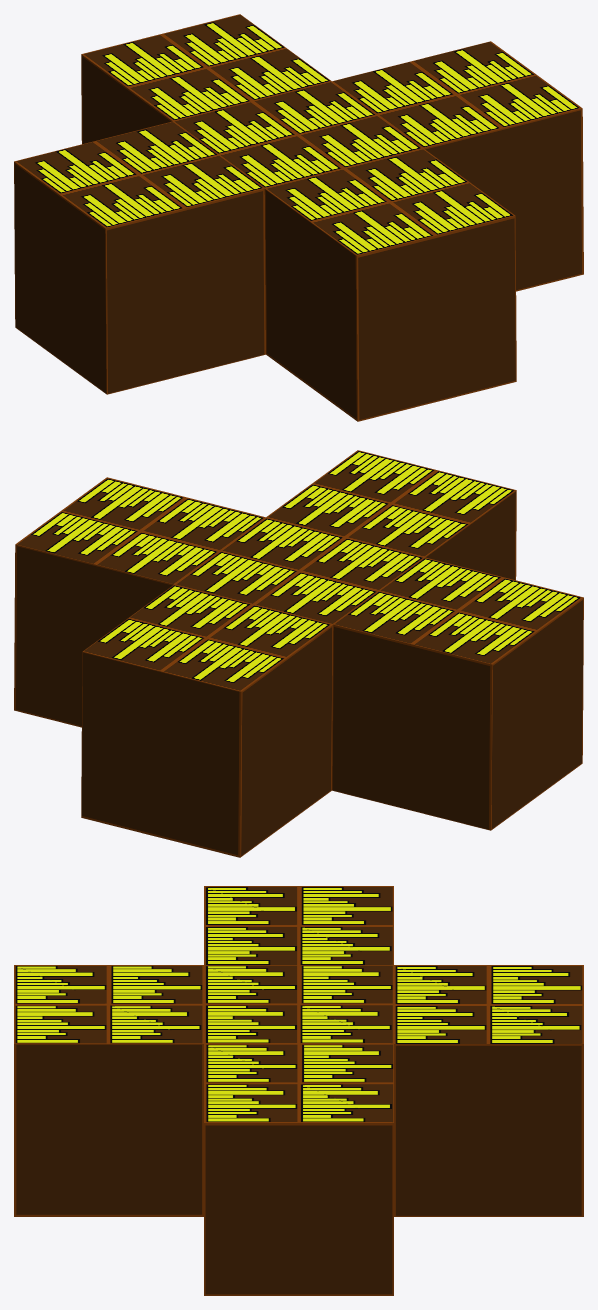
The model's file is Cross.fbx.
3 views of the same model, one above another, from view 1: azimuth 30°, elevation 25°; view 2: azimuth 150°, elevation 25°; view 3: azimuth 270°, elevation 25° (orthographic). The views are drawn at different scales.
Visible parts, largest first — view 1: Cube.002; view 2: Cube.002; view 3: Cube.002.
Boxes of the visible parts, x1,y1,x2,y2 form: Cube.002: (14, 14, 583, 421); Cube.002: (14, 450, 583, 857); Cube.002: (14, 886, 583, 1295).
Bounding box in the file's own units: 12.03 × 4.09 × 12.
